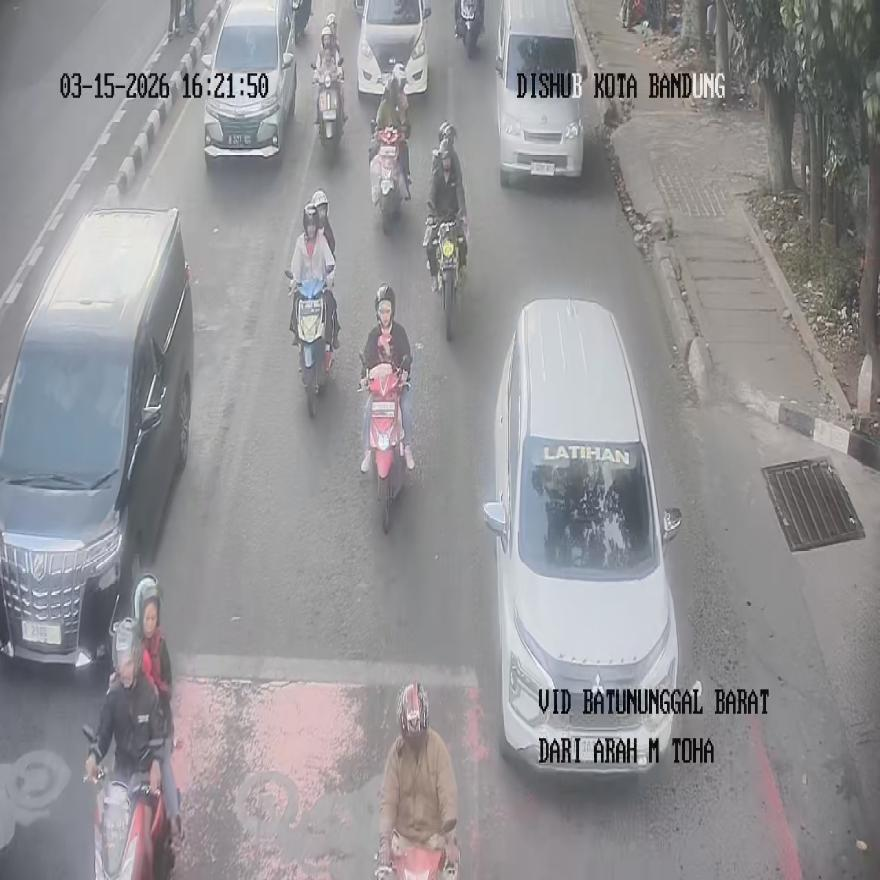Mobil: (483, 297, 682, 771), (0, 207, 193, 672), (494, 0, 587, 186), (199, 0, 296, 161), (354, 0, 432, 98)
Motor: (82, 725, 176, 880), (359, 354, 410, 533), (288, 268, 336, 416), (427, 206, 464, 338), (375, 825, 459, 880), (369, 120, 408, 231), (312, 61, 345, 158), (453, 0, 483, 57), (292, 0, 312, 43)
